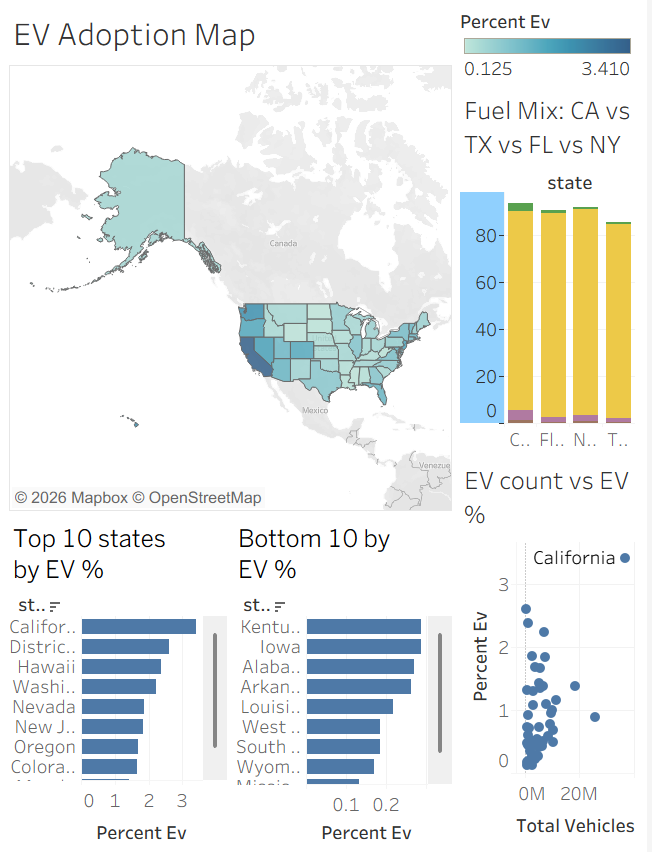

The dashboard page shown, as its layout file describes it:
{"tool":"tableau","page":{"name":"EV Market Share & Infrastructure Priority Dashboard","canvas":[650,860],"ordinal":0},"visuals":[{"type":"worksheet","title":"EV Adoption Map","mark":"Automatic","box":[8,8,451,511]},{"type":"legend","title":"EV Adoption Map","param":"[federated.0j7bb4g04lygvg1dgkshz0i202ed].[sum:percent_ev:qk]","box":[459,8,183,81]},{"type":"worksheet","title":"Fuel Mix: CA vs TX vs FL vs NY","mark":"Automatic","cols":["state"],"box":[459,89,183,370.5]},{"type":"worksheet","title":"EV count vs EV %","mark":"Circle","rows":["percent_ev"],"cols":["total_vehicles"],"box":[459,459.5,183,392.5]},{"type":"worksheet","title":"Top 10 states by EV %","mark":"Automatic","rows":["state"],"cols":["percent_ev"],"box":[8,519,225.5,333]},{"type":"worksheet","title":"Bottom 10 by EV %","mark":"Automatic","rows":["state"],"cols":["percent_ev"],"box":[233.5,519,225.5,333]}]}

Visuals, with their boxes in screenshot pixels (x1, y1, x2, y2), scaled from the page's 650x860 canvas onto the 652x852 screenshot:
"EV Adoption Map" worksheet: bbox=[8, 8, 460, 514]
"EV Adoption Map" legend: bbox=[460, 8, 644, 88]
"Fuel Mix: CA vs TX vs FL vs NY" worksheet: bbox=[460, 88, 644, 455]
"EV count vs EV %" worksheet (Circle marks): bbox=[460, 455, 644, 844]
"Top 10 states by EV %" worksheet: bbox=[8, 514, 234, 844]
"Bottom 10 by EV %" worksheet: bbox=[234, 514, 460, 844]
